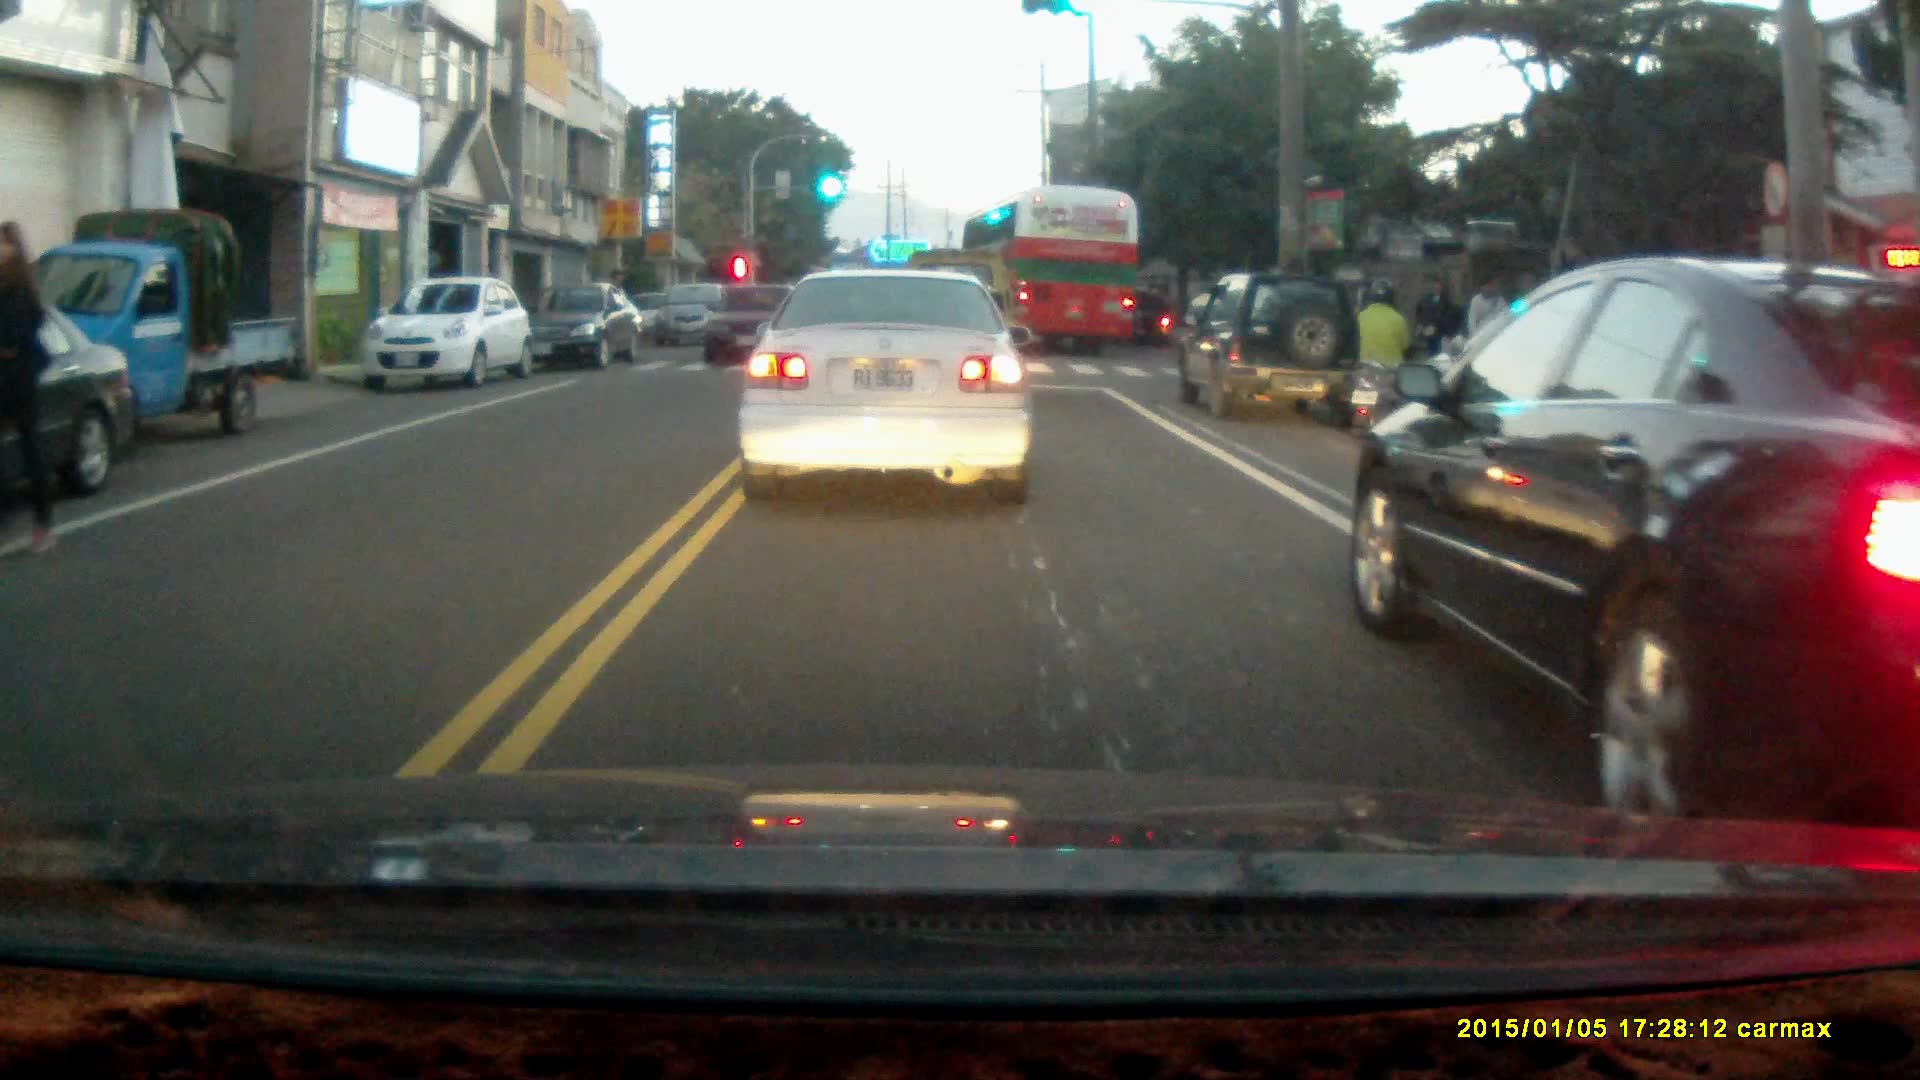pedestrian: (0, 219, 60, 555), (1463, 273, 1512, 385), (1412, 274, 1456, 392)
rider: (1345, 282, 1414, 442), (1115, 292, 1175, 348)
vehicle: (1354, 256, 1920, 835), (731, 267, 1034, 508), (10, 209, 286, 444), (1, 288, 144, 515), (963, 188, 1144, 357), (1177, 275, 1370, 429), (363, 281, 526, 394), (532, 283, 650, 372), (650, 286, 737, 357)
